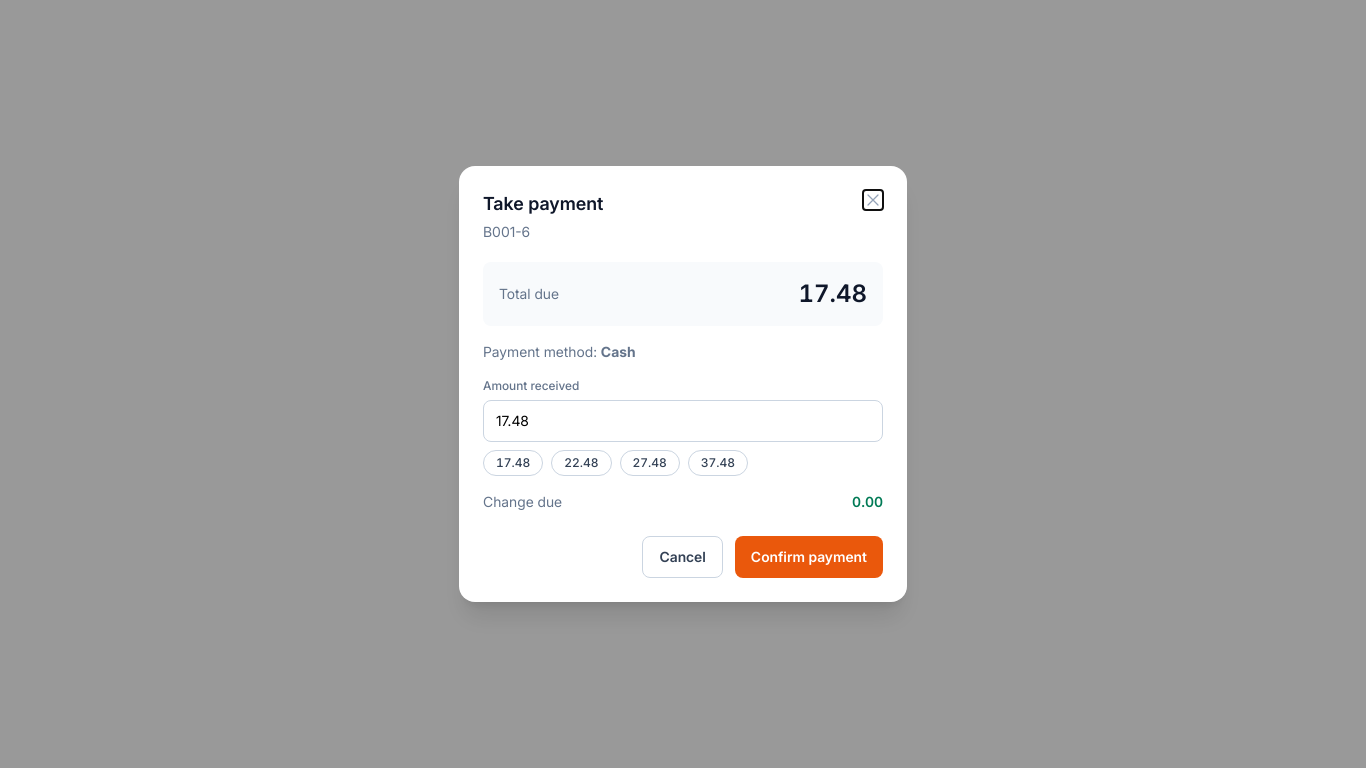
Test case: PaymentModal › blocks submit when the amount is short
Replace the text in the number field with id "amount-received" with "10" at (683, 421), box [483, 400, 883, 442]
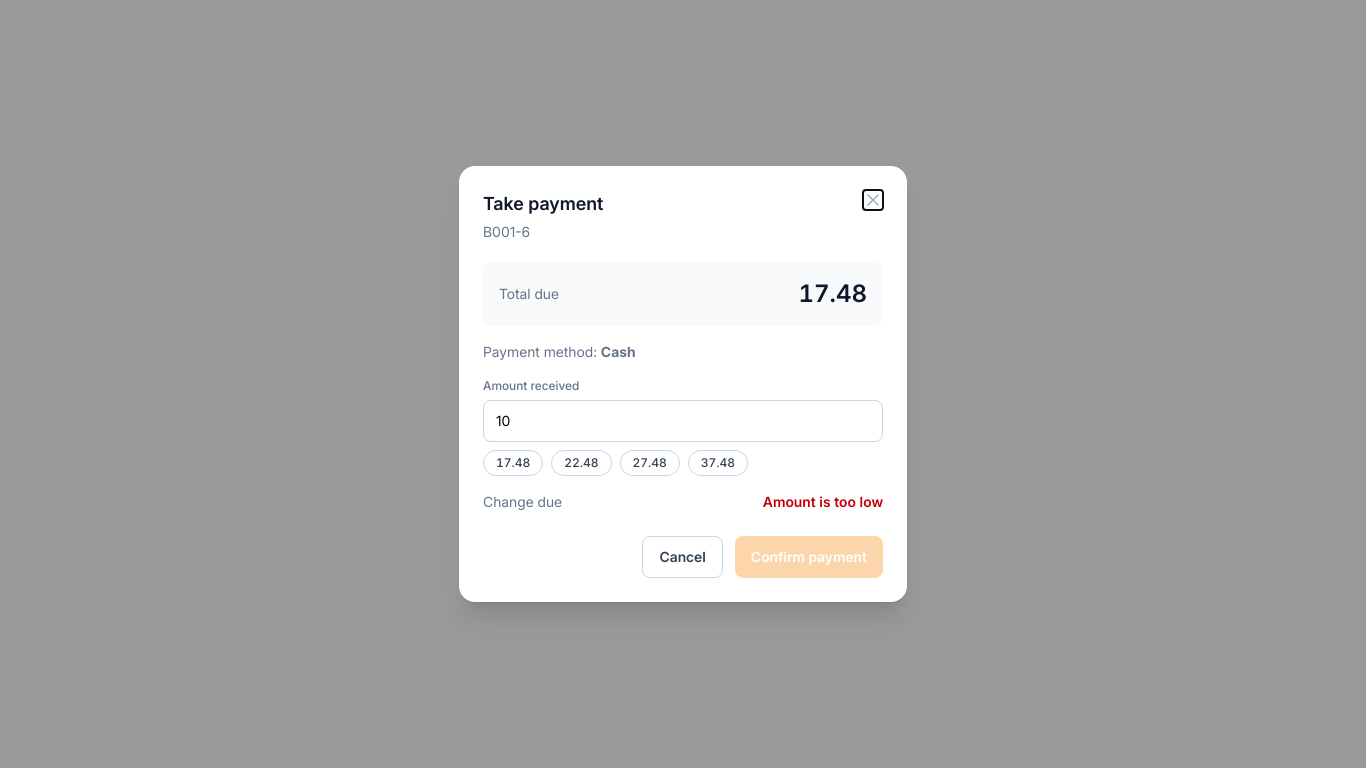
Expected: the text "Amount is too low" is shown, [763, 492, 883, 512]
Expected: the button "Confirm payment" is disabled, [735, 536, 883, 578]
